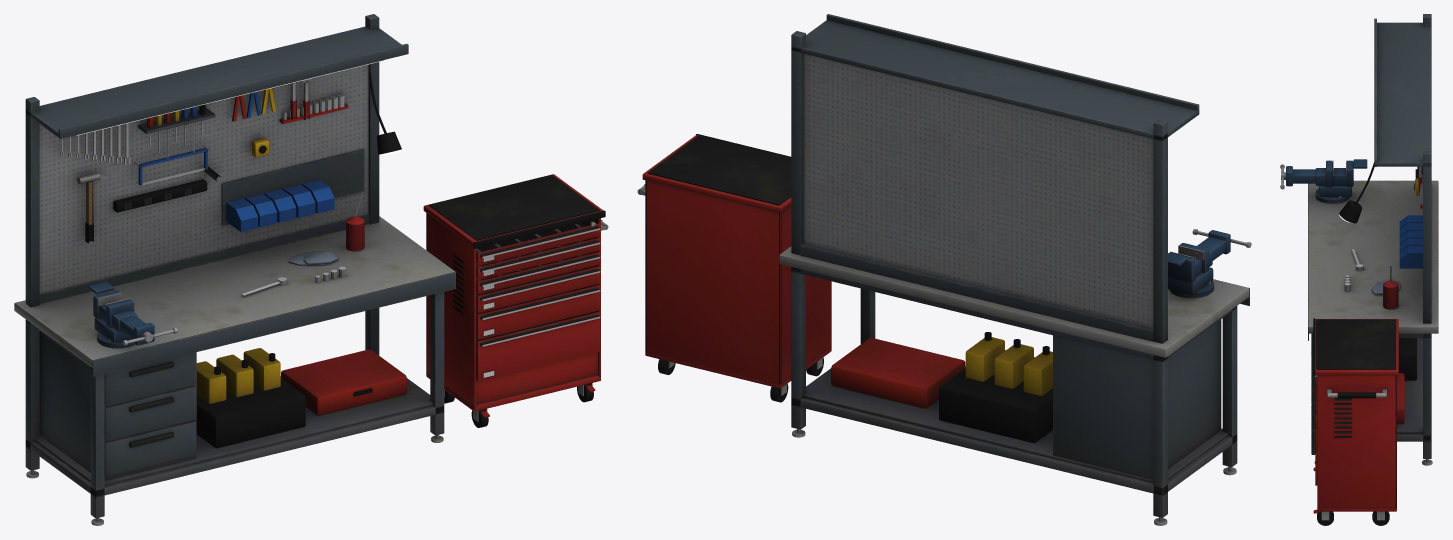
The model's file is tool-chest-bench-v1-lod0.glb.
The picture shows the model from 3 angles, left to right: view 1: azimuth 30°, elevation 25°; view 2: azimuth 150°, elevation 25°; view 3: azimuth 270°, elevation 25°; orthographic projection. The views are drawn at different scales.
Parts seen in each view (by area): view 1: body, drawer_6_mesh, drawer_5_mesh, drawer_4_mesh, drawer_1_mesh, drawer_3_mesh, drawer_2_mesh; view 2: body; view 3: body, drawer_6_mesh.
Boxes of the visible parts, box(x1,y1,x2,y2) form: body: box(14, 14, 608, 525); drawer_6_mesh: box(476, 311, 600, 381); drawer_5_mesh: box(476, 285, 600, 339); drawer_4_mesh: box(476, 266, 600, 313); drawer_1_mesh: box(476, 220, 600, 265); drawer_3_mesh: box(476, 251, 600, 294); drawer_2_mesh: box(476, 237, 600, 279); body: box(637, 14, 1251, 525); body: box(1280, 14, 1438, 525); drawer_6_mesh: box(1311, 432, 1317, 485).
Size of the model in its own units: 2.91 by 1.98 by 0.9125.
2 materials, 1 textured.
